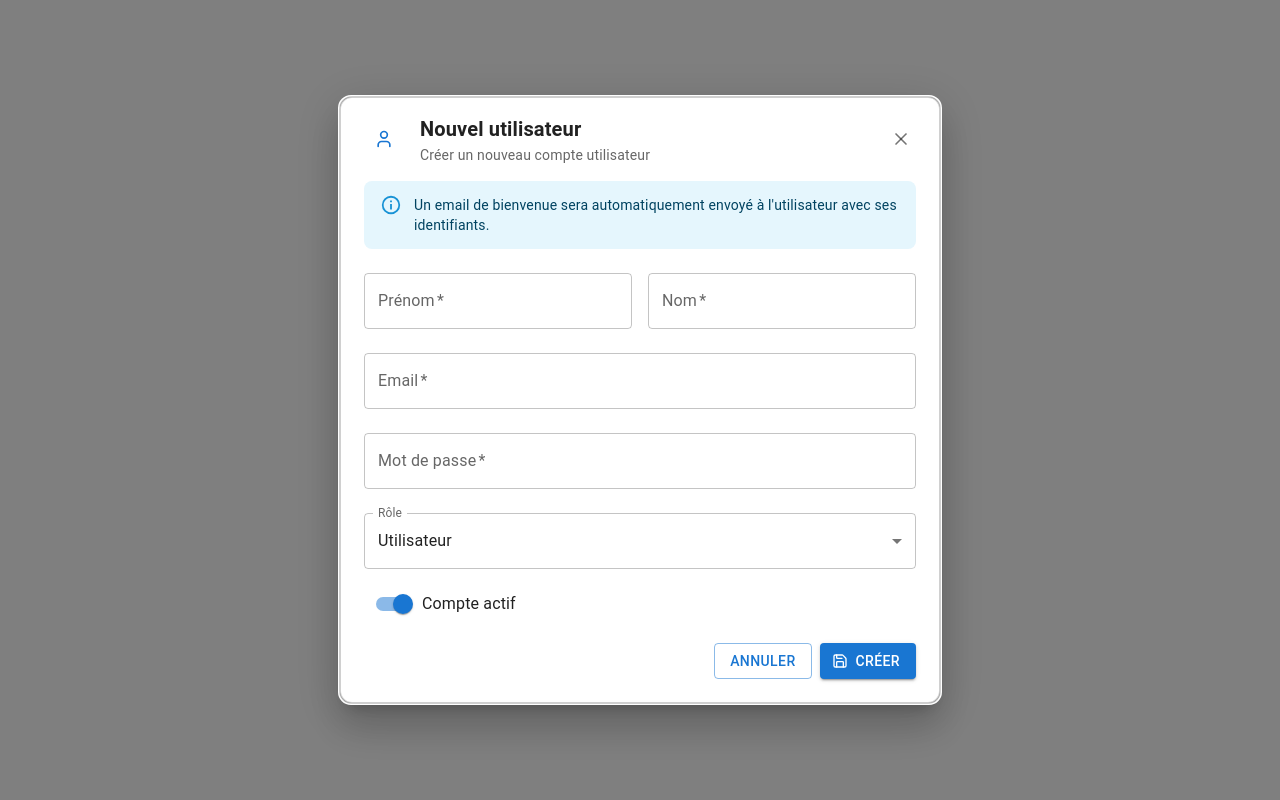
Test: UserModal › affiche les erreurs de validation quand les champs requis sont vides
This screenshot has width=1280, height=800.
Click the button "Créer": (868, 661) [820, 643, 916, 679]
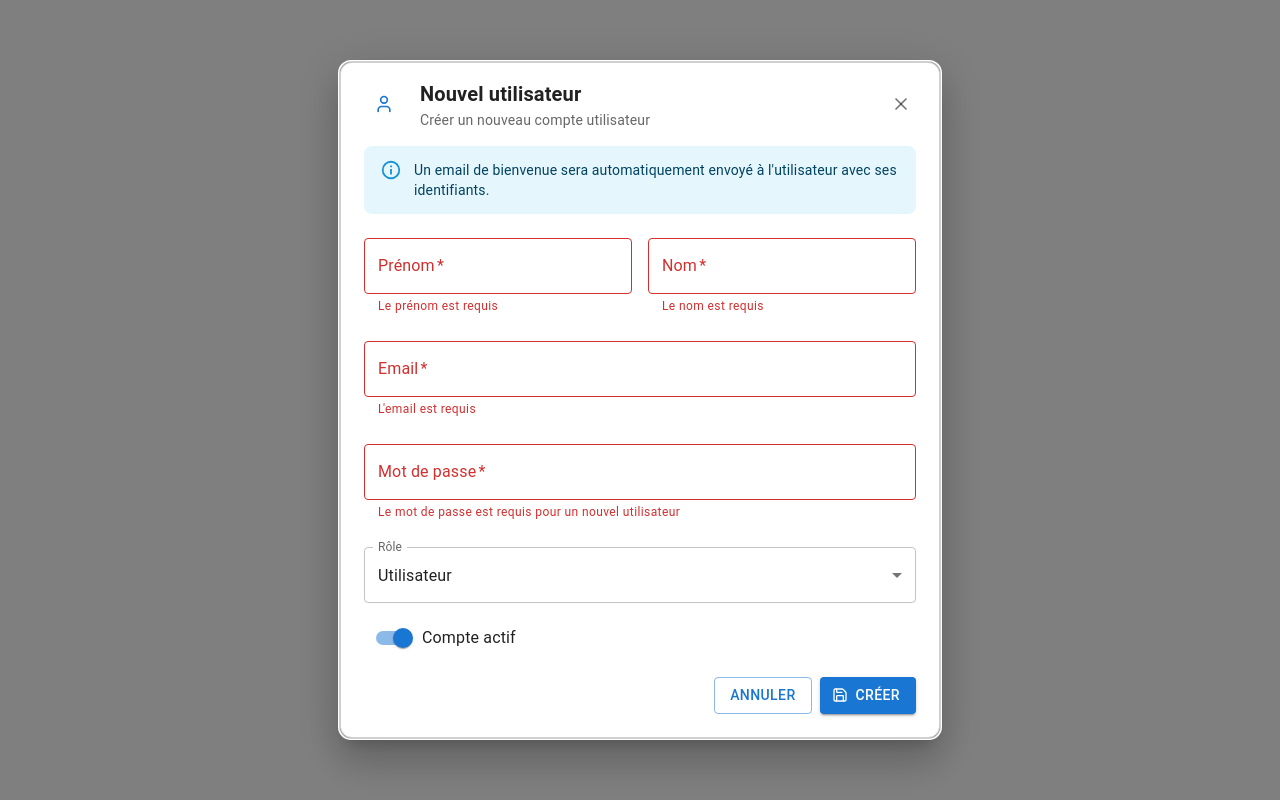
Expected: the text "L'email est requis" is shown, [378, 402, 476, 416]
Expected: the text "Le prénom est requis" is shown, [378, 299, 498, 313]
Expected: the text "Le nom est requis" is shown, [662, 299, 764, 313]
